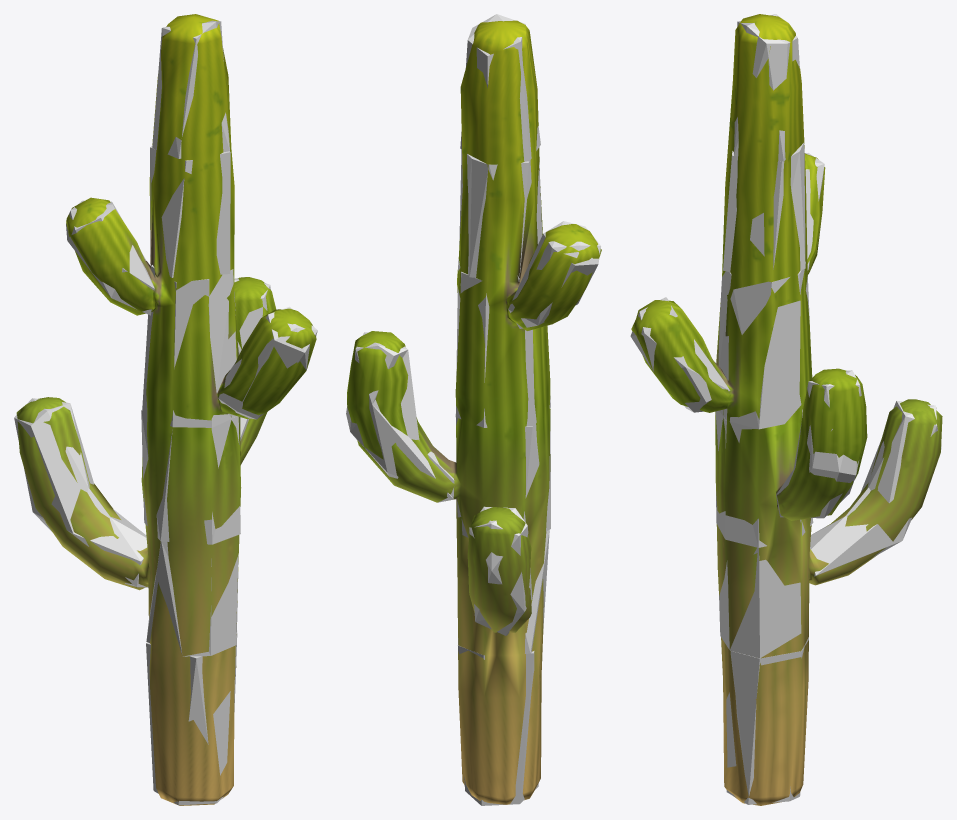
File: Fractured_6.fbx
3 views of the same model, side by side, from view 1: azimuth 30°, elevation 25°; view 2: azimuth 150°, elevation 25°; view 3: azimuth 270°, elevation 25° (orthographic).
Visible parts, largest first — view 1: cactus_6_body_1, cactus_6_body_3, cactus_6_body_4, cactus_6_body_6, cactus_6_branch_1, cactus_6_body_5, cactus_6_body_2, cactus_6_branch_1_cd, cactus_6_branch_4, cactus_6_branch_3, cactus_6_body_4_cd, cactus_6_body_2_cd (+8 smaller); view 2: cactus_6_body_1, cactus_6_body_4, cactus_6_body_6, cactus_6_body_3, cactus_6_branch_2, cactus_6_body_5, cactus_6_branch_1, cactus_6_branch_4, cactus_6_body_2, cactus_6_branch_2_cd, cactus_6_body_5_cd, cactus_6_body_4_cd (+6 smaller); view 3: cactus_6_body_1, cactus_6_body_3, cactus_6_body_6, cactus_6_branch_2, cactus_6_branch_1, cactus_6_body_4_cd, cactus_6_body_5, cactus_6_body_4, cactus_6_body_2, cactus_6_branch_3, cactus_6_body_2_cd, cactus_6_branch_1_cd (+8 smaller).
Boxes of the visible parts, box(x1,y1,x2,y2) form: cactus_6_body_1: box(149, 645, 236, 805); cactus_6_body_3: box(141, 414, 241, 544); cactus_6_body_4: box(146, 261, 238, 425); cactus_6_body_6: box(152, 14, 231, 160); cactus_6_branch_1: box(16, 397, 148, 590); cactus_6_body_5: box(149, 143, 234, 279); cactus_6_body_2: box(141, 524, 239, 656); cactus_6_branch_1_cd: box(14, 398, 148, 587); cactus_6_branch_4: box(66, 197, 153, 315); cactus_6_branch_3: box(218, 308, 316, 418); cactus_6_body_4_cd: box(142, 265, 236, 427); cactus_6_body_2_cd: box(146, 541, 238, 656); cactus_6_body_1: box(458, 633, 543, 804); cactus_6_body_4: box(455, 268, 550, 427); cactus_6_body_6: box(460, 20, 538, 164); cactus_6_body_3: box(453, 408, 550, 539); cactus_6_branch_2: box(347, 331, 454, 502); cactus_6_body_5: box(458, 147, 542, 282); cactus_6_branch_1: box(467, 507, 531, 632); cactus_6_branch_4: box(508, 224, 601, 330); cactus_6_body_2: box(456, 531, 546, 655); cactus_6_branch_2_cd: box(346, 332, 454, 502); cactus_6_body_5_cd: box(459, 149, 542, 281); cactus_6_body_4_cd: box(455, 258, 550, 427); cactus_6_body_1: box(721, 637, 808, 805); cactus_6_body_3: box(715, 412, 810, 545); cactus_6_body_6: box(728, 14, 804, 162); cactus_6_branch_2: box(776, 368, 867, 520); cactus_6_branch_1: box(809, 399, 942, 585); cactus_6_body_4_cd: box(718, 262, 809, 429); cactus_6_body_5: box(722, 142, 807, 281); cactus_6_body_4: box(716, 260, 812, 423); cactus_6_body_2: box(716, 524, 814, 658); cactus_6_branch_3: box(631, 300, 729, 412); cactus_6_body_2_cd: box(719, 547, 801, 658); cactus_6_branch_1_cd: box(810, 400, 941, 576).
Size of the model in its own units: 531 by 1707 by 620.
